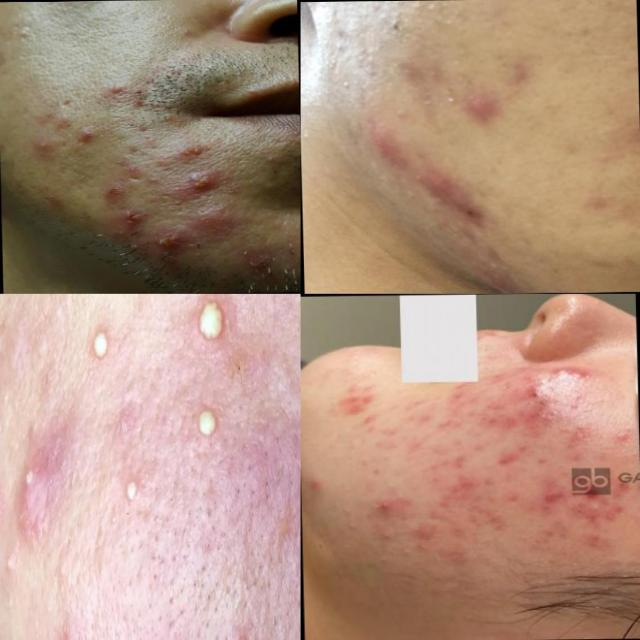8: (466, 498, 524, 534), (431, 468, 481, 508), (456, 90, 510, 124), (558, 421, 602, 457), (401, 515, 434, 542), (71, 124, 105, 147), (512, 386, 550, 404), (98, 180, 128, 202), (303, 472, 330, 496), (373, 524, 398, 542)
9: (182, 294, 237, 366), (189, 388, 227, 460), (86, 311, 113, 381), (118, 462, 148, 522), (369, 494, 402, 516), (30, 136, 60, 156), (106, 78, 130, 101)
blackheads: (11, 441, 60, 549), (418, 168, 493, 232), (368, 131, 409, 171), (326, 392, 380, 422), (569, 494, 614, 529), (478, 449, 522, 473), (548, 363, 594, 385), (177, 142, 210, 161), (536, 489, 570, 506)
pustules: (188, 172, 218, 195), (198, 207, 224, 231), (155, 231, 188, 249)
whiteheads: (217, 620, 259, 640)
